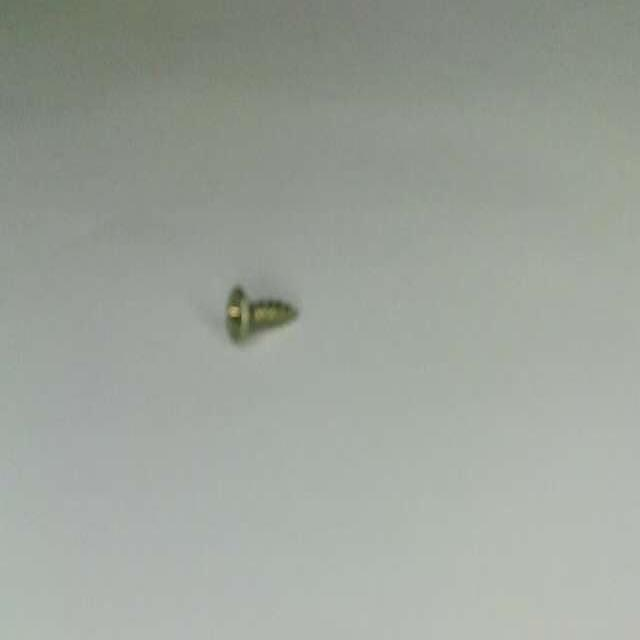Parafuso: (227, 287, 297, 341)
